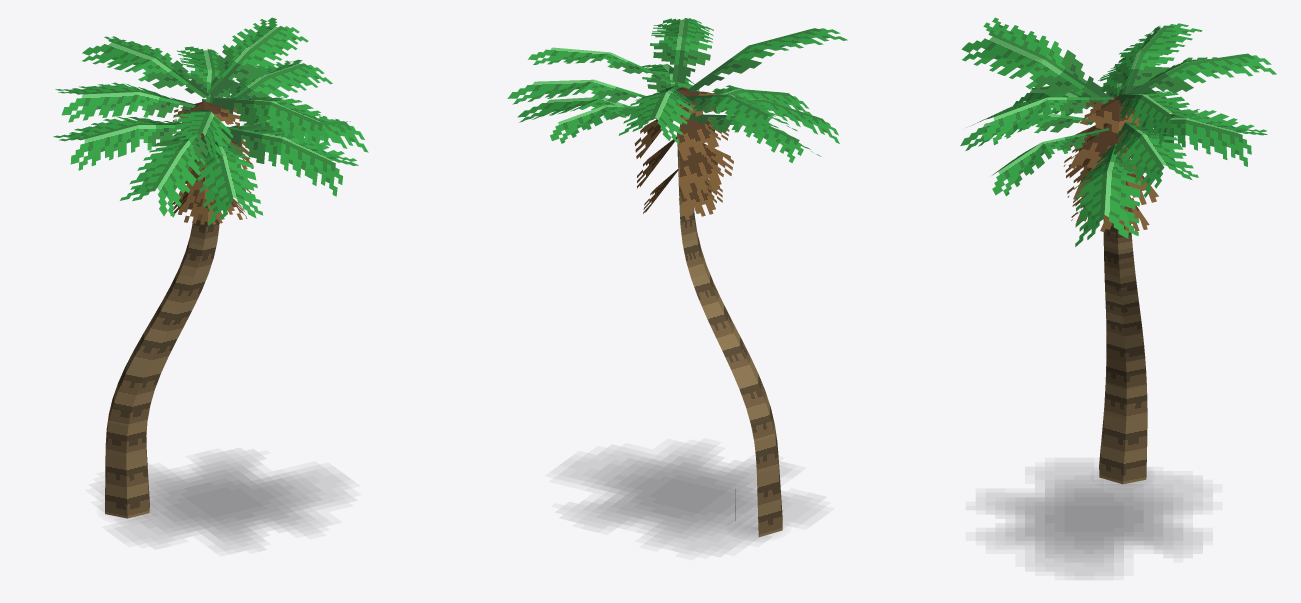
The model's file is palm_right.glb.
The picture shows the model from 3 angles, left to right: view 1: azimuth 30°, elevation 25°; view 2: azimuth 150°, elevation 25°; view 3: azimuth 270°, elevation 25°; orthographic projection. The views are drawn at different scales.
Parts seen in each view (by area): view 1: c15_wood_01_3, PalmShadow, c15_wood_01, c15_wood_2; view 2: c15_wood_01_3, PalmShadow, c15_wood_01, c15_wood_2; view 3: c15_wood_01_3, PalmShadow, c15_wood_01, c15_wood_2.
Part boxes in pixels (x1=…): c15_wood_01_3: x1=53, y1=17, x2=368, y2=225; PalmShadow: x1=123, y1=455, x2=342, y2=546; c15_wood_01: x1=105, y1=214, x2=219, y2=518; c15_wood_2: x1=170, y1=101, x2=252, y2=224; c15_wood_01_3: x1=507, y1=18, x2=847, y2=162; PalmShadow: x1=568, y1=449, x2=811, y2=550; c15_wood_01: x1=666, y1=126, x2=782, y2=537; c15_wood_2: x1=634, y1=87, x2=733, y2=221; c15_wood_01_3: x1=960, y1=17, x2=1276, y2=246; PalmShadow: x1=986, y1=466, x2=1202, y2=575; c15_wood_01: x1=1099, y1=220, x2=1147, y2=484; c15_wood_2: x1=1063, y1=95, x2=1158, y2=232.
Bounding box in the file's own units: 69.59 × 95.81 × 67.23.
5 materials, 5 textured.
